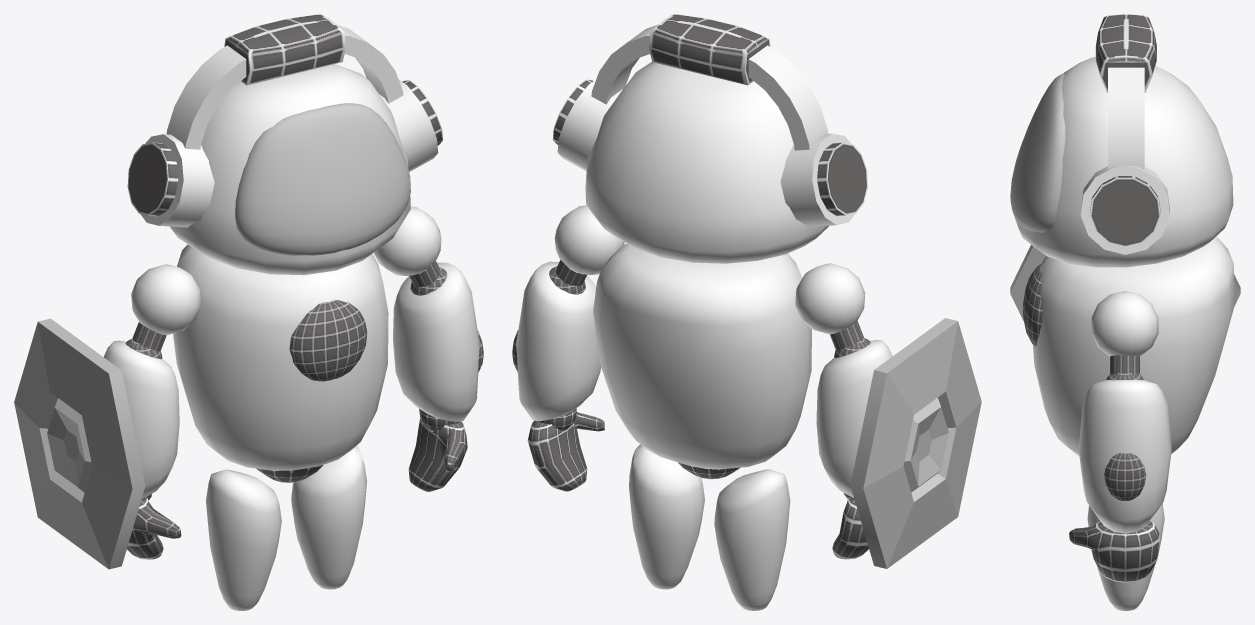
The model's file is KDT_Animate_no_skinned.FBX.
The picture shows the model from 3 angles, left to right: view 1: azimuth 30°, elevation 25°; view 2: azimuth 150°, elevation 25°; view 3: azimuth 270°, elevation 25°; orthographic projection. The views are drawn at different scales.
Visible parts, largest first — view 1: KDT, KDT_Shield; view 2: KDT, KDT_Shield; view 3: KDT, KDT_Shield.
Part boxes in pixels (x1=…): KDT: x1=104, y1=14, x2=483, y2=610; KDT_Shield: x1=14, y1=318, x2=145, y2=569; KDT: x1=512, y1=14, x2=892, y2=610; KDT_Shield: x1=850, y1=318, x2=981, y2=568; KDT: x1=1010, y1=14, x2=1234, y2=610; KDT_Shield: x1=1010, y1=245, x2=1240, y2=321.
Bounding box in the file's own units: 65.25 × 86.01 × 32.37.
